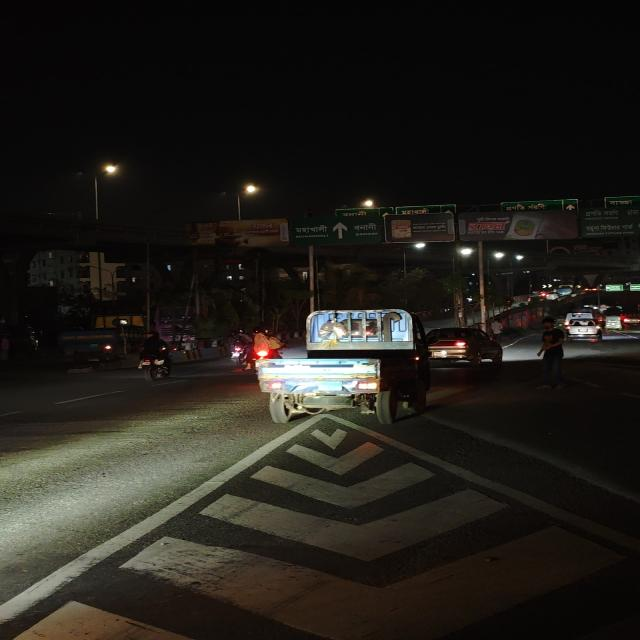car: (425, 324, 506, 364), (562, 316, 606, 343)
motorcycle: (131, 331, 176, 381), (226, 333, 249, 367)
pedestrian: (532, 325, 572, 391)
pickup_van: (257, 306, 431, 427)
